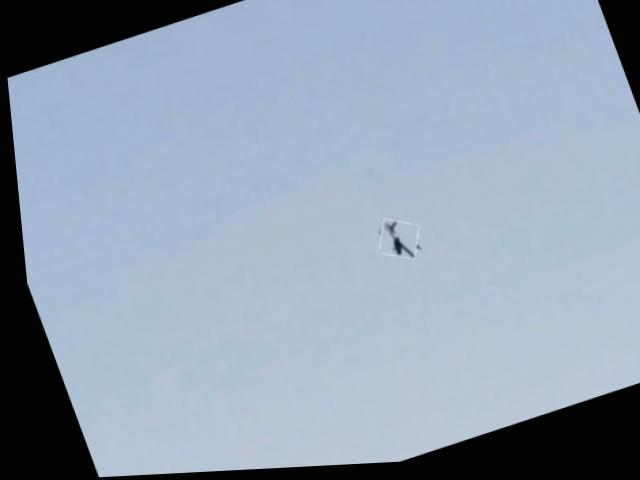insansiz-hava-araci: (366, 216, 421, 268)
